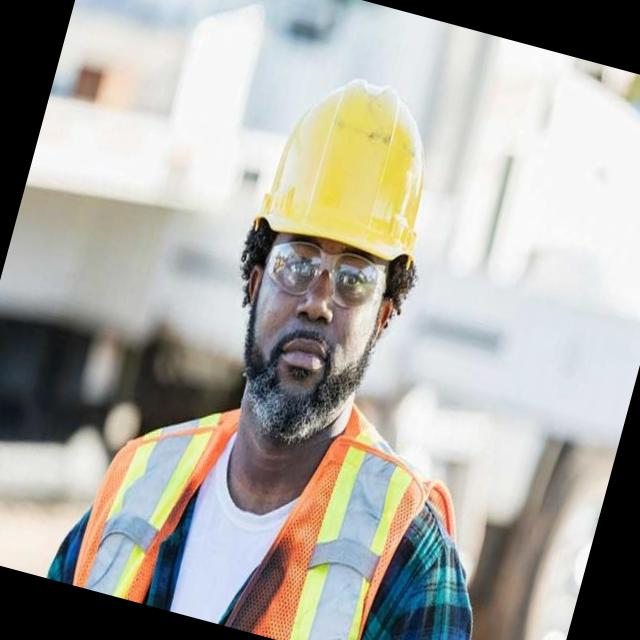Helmet: (254, 55, 466, 271)
Vest: (67, 374, 437, 640)
